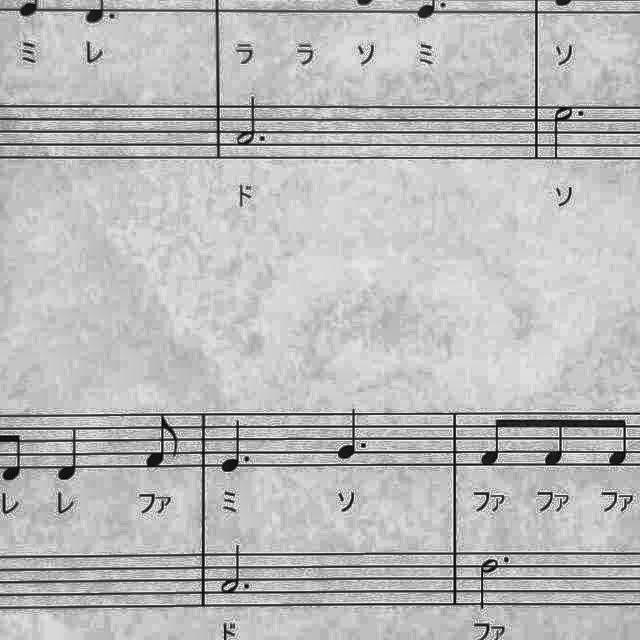Eighth-note: (140, 408, 184, 472), (475, 412, 509, 472), (604, 409, 636, 471), (540, 414, 572, 470)
Half-dot: (547, 102, 597, 174), (472, 552, 516, 614), (230, 96, 270, 152), (217, 542, 255, 598)
Quarter-dot: (334, 398, 374, 467), (219, 417, 255, 479)
Quarter-note: (52, 424, 88, 484)
